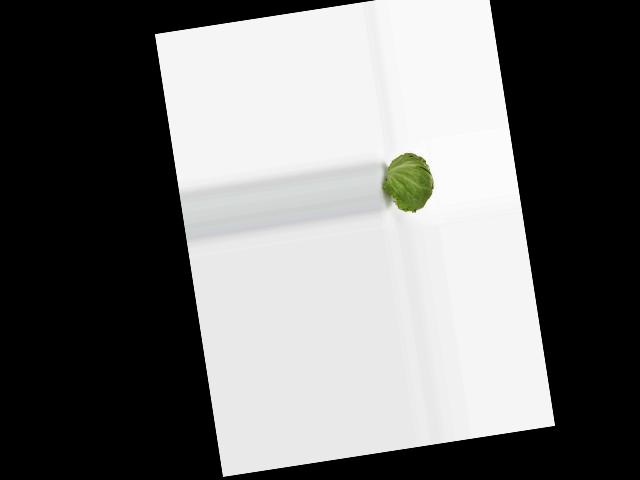lettuce: (384, 145, 438, 217)
